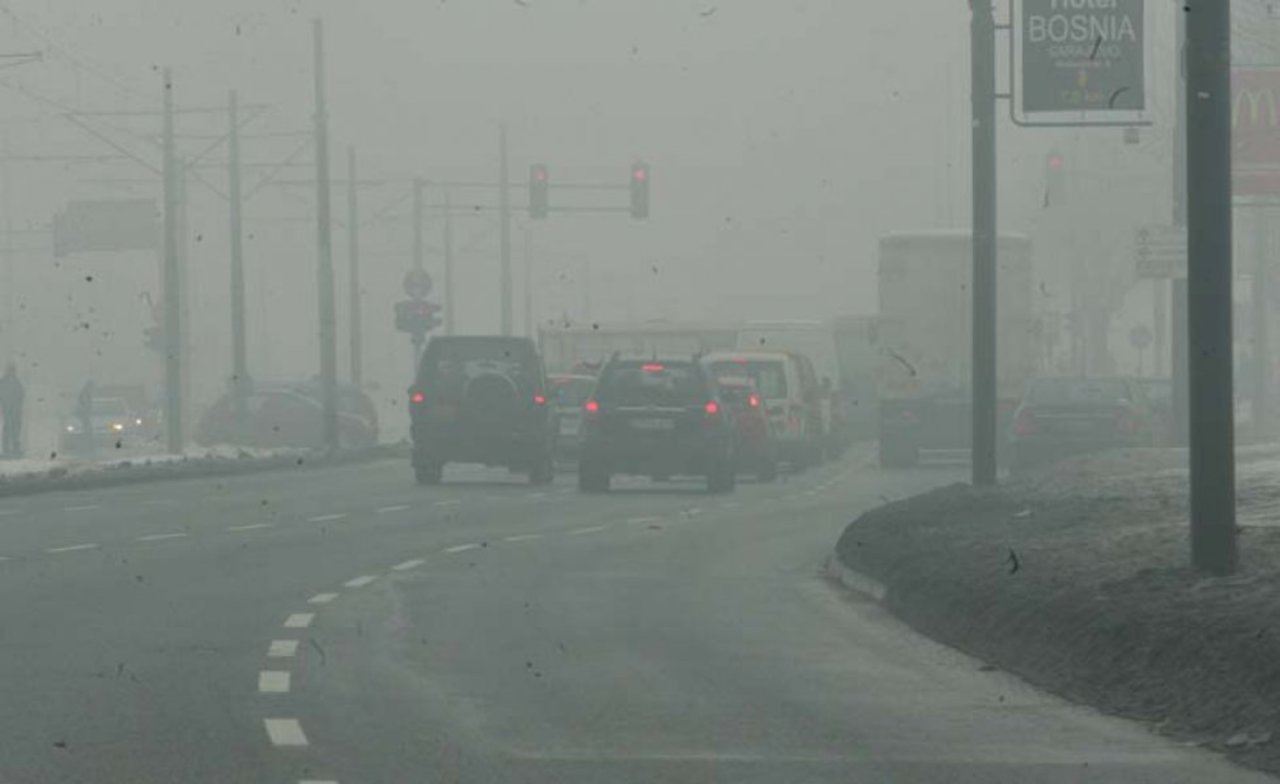car: (568, 354, 735, 493), (407, 331, 552, 491), (1006, 378, 1162, 472), (192, 383, 361, 454), (732, 358, 802, 460), (718, 378, 778, 484), (297, 377, 378, 437), (788, 343, 824, 460), (546, 378, 593, 463), (61, 395, 125, 446), (102, 379, 145, 437)
person: (1, 358, 29, 457), (74, 380, 99, 452)
truck: (873, 227, 1034, 474), (741, 319, 844, 456)
